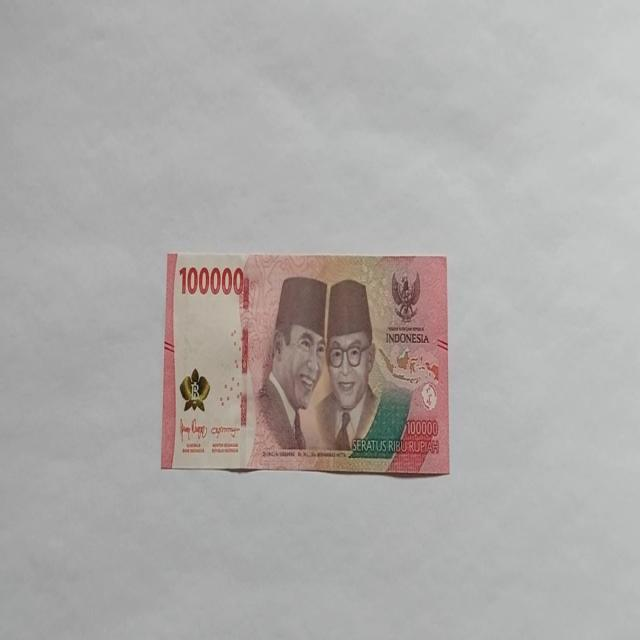seratus ribu rupiah: (160, 250, 450, 476), (252, 274, 327, 460), (314, 278, 380, 452)
